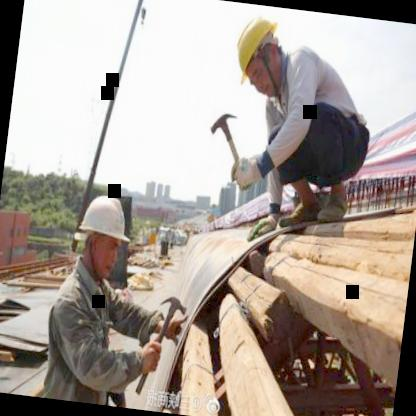helmet: (229, 11, 292, 103), (69, 191, 133, 281)
